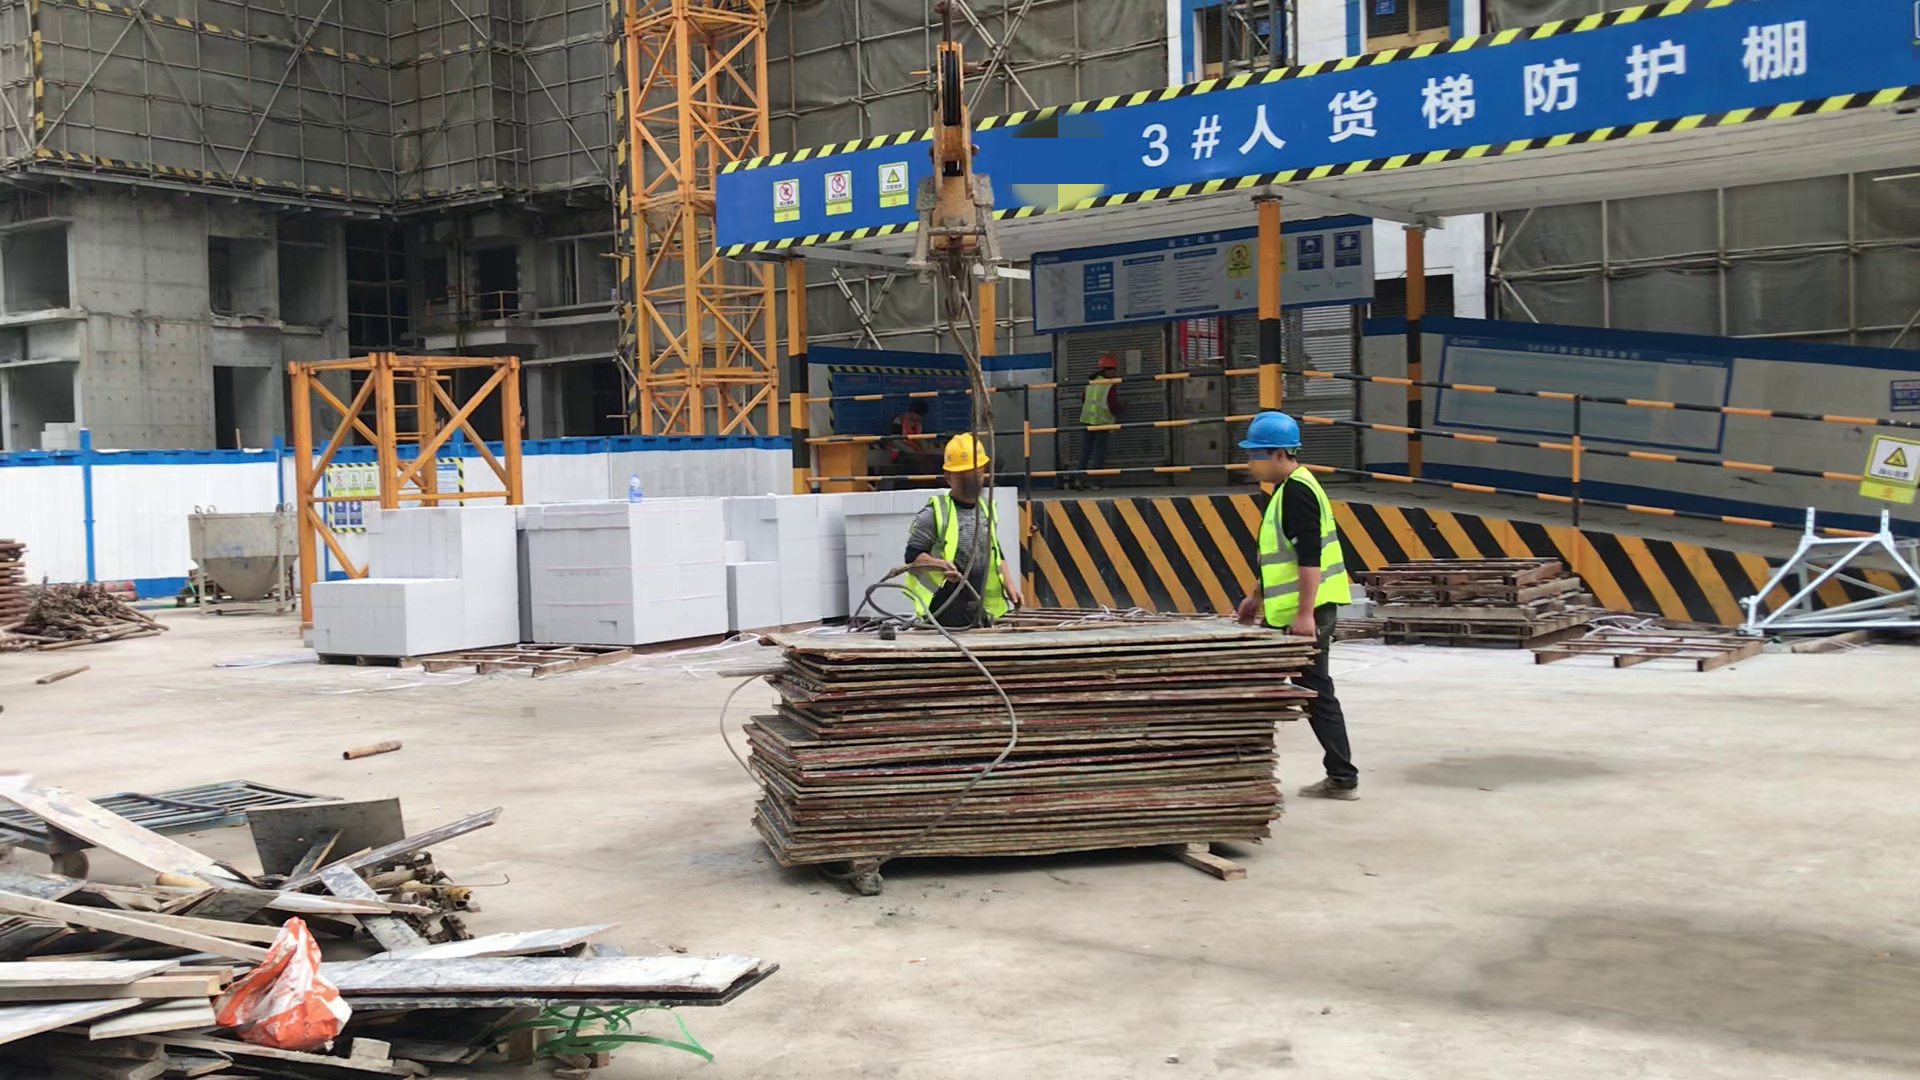board: (748, 633, 1329, 875)
brick: (311, 498, 839, 662), (839, 489, 933, 620)
ebox: (813, 437, 865, 487)
handcart: (5, 771, 356, 878)
helmet: (1232, 411, 1305, 458), (940, 433, 992, 472), (1096, 354, 1119, 370)
hook: (914, 34, 1005, 336)
hopper: (177, 497, 304, 623)
person: (1231, 407, 1370, 802), (903, 428, 1018, 637), (1074, 351, 1121, 491), (882, 396, 927, 477)
slogan: (1139, 19, 1814, 173), (769, 158, 906, 222), (1857, 428, 1917, 514)
vest: (1259, 477, 1352, 626), (910, 493, 1006, 618), (1082, 376, 1115, 432), (894, 413, 920, 458)
